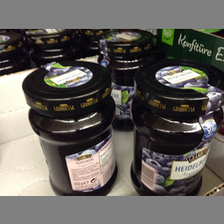jam: (23, 60, 118, 195), (130, 60, 218, 196), (98, 30, 154, 132)
